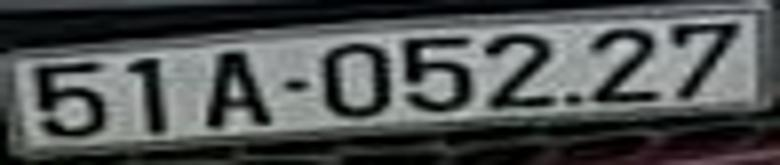-: (281, 77, 310, 94)
.: (563, 90, 582, 107)
0: (323, 41, 390, 116)
1: (126, 55, 167, 138)
2: (485, 32, 560, 111), (592, 24, 662, 105)
5: (401, 37, 474, 113), (35, 59, 105, 138)
7: (671, 20, 742, 100)
A: (204, 52, 273, 126)
